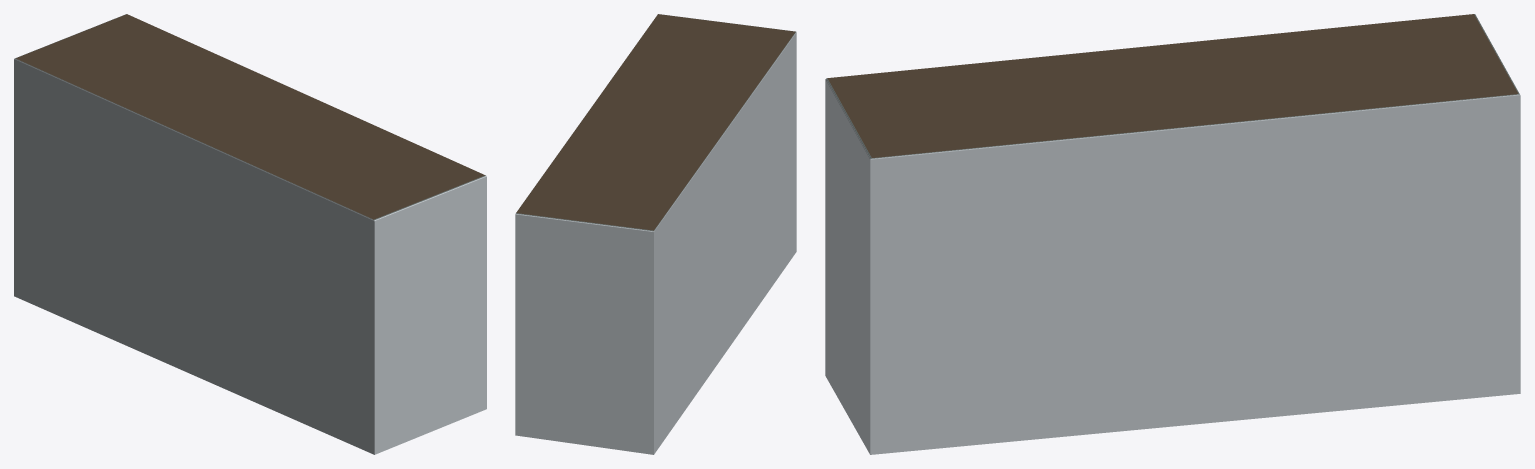
Rendered from intact.glb.
3 views of the same model, side by side, from view 1: azimuth 30°, elevation 25°; view 2: azimuth 150°, elevation 25°; view 3: azimuth 270°, elevation 25° (orthographic). The views are drawn at different scales.
Visible parts, largest first — view 1: SM_osm-577759119_Intact_00; view 2: SM_osm-577759119_Intact_00; view 3: SM_osm-577759119_Intact_00.
Part boxes in pixels (x1,y1,x2,y2): SM_osm-577759119_Intact_00: [14, 14, 486, 454]; SM_osm-577759119_Intact_00: [515, 14, 796, 454]; SM_osm-577759119_Intact_00: [825, 14, 1520, 454].
Bounding box in the file's own units: 1.09 × 1.06 × 2.2.
